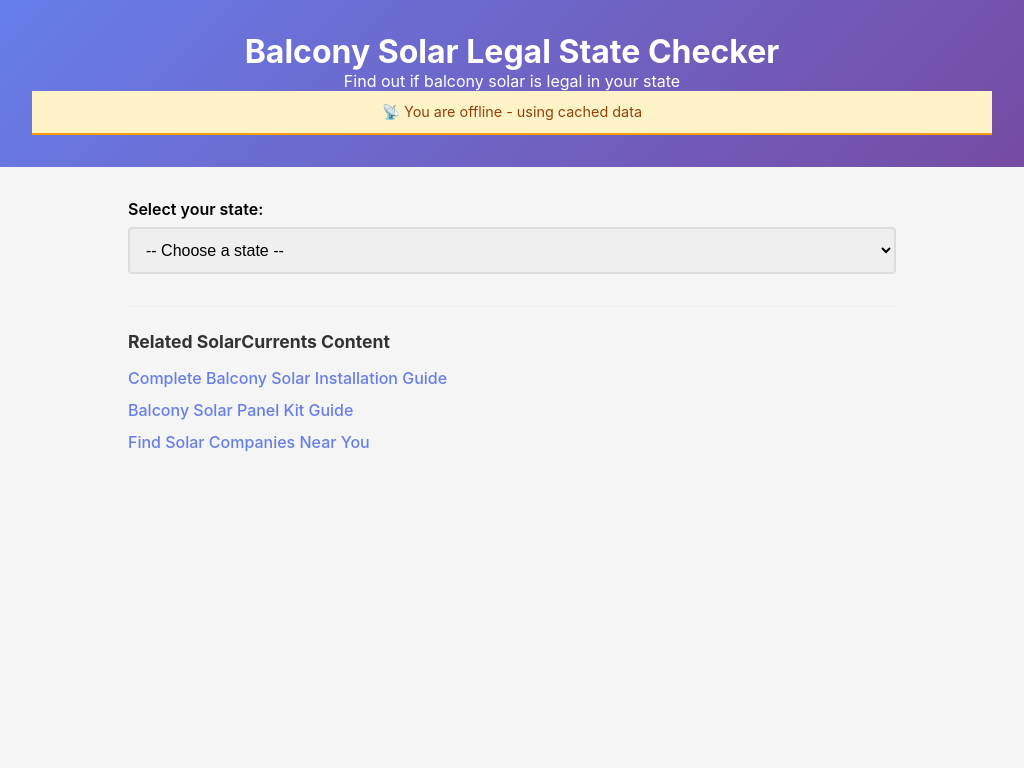
SolarCurrents Integration › Newsletter Subscription CTA › displays newsletter subscription CTA after state lookup
// Select Texas
Select "Texas" in the dropdown at x=512, y=250, box x1=128 y1=227 x2=896 y2=274
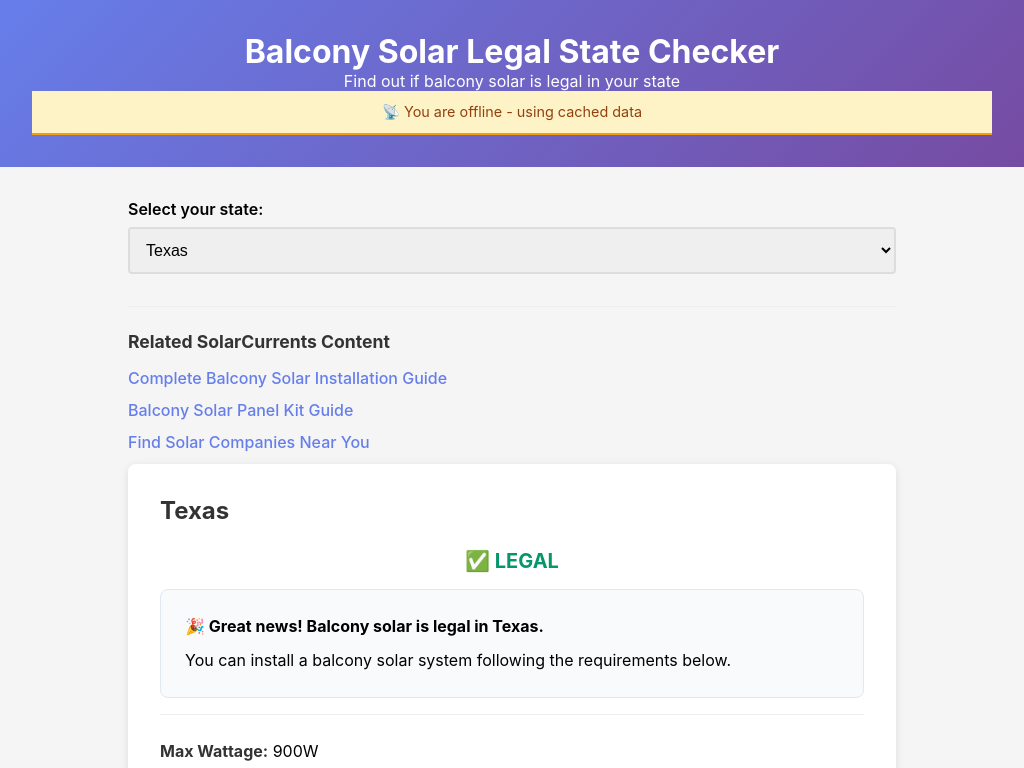
Now the heading "Texas" is shown, box x1=160 y1=496 x2=229 y2=525
Now the text "✅ LEGAL" is shown, box x1=465 y1=549 x2=559 y2=573
